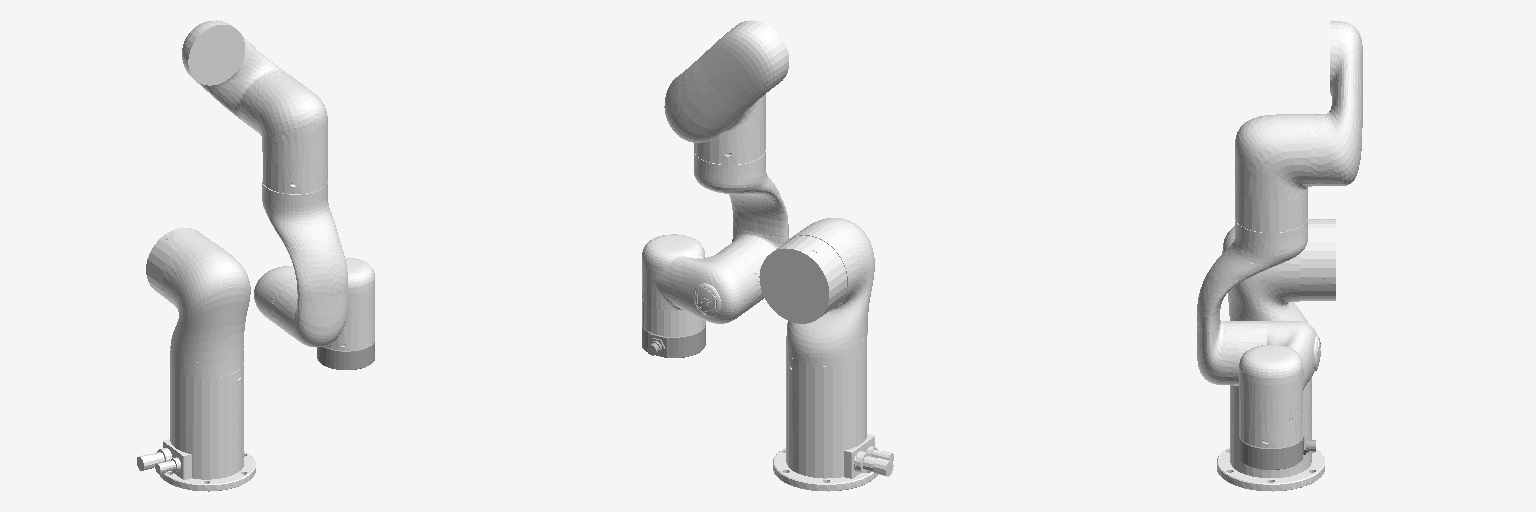
robot.urdf — xarm6:
<?xml version="1.0" encoding="utf-8"?>
<!-- =================================================================================== -->
<!-- |    This document was autogenerated by xacro from xarm6_robot.urdf.xacro         | -->
<!-- |    EDITING THIS FILE BY HAND IS NOT RECOMMENDED                                 | -->
<!-- =================================================================================== -->
<robot name="xarm6">
  <!--
  Author: Jason Peng <jason@ufactory.cc>
  Contributers:
-->
  <material name="Black">
    <color rgba="0.0 0.0 0.0 1.0"/>
  </material>
  <material name="Red">
    <color rgba="0.85 0.19  0.21 1.0"/>
  </material>
  <material name="Blue">
    <color rgba="0.28 0.52 0.92 1.0"/>
  </material>
  <material name="Green">
    <color rgba="0.23 0.72 0.32 1.0"/>
  </material>
  <material name="Yellow">
    <color rgba="0.95 0.76 0.05 1.0"/>
  </material>
  <material name="White">
    <color rgba="1.0 1.0 1.0 1.0"/>
  </material>
  <material name="Silver">
    <color rgba="0.753 0.753 0.753 1.0"/>
  </material>
  <link name="link_base">
    <visual>
      <geometry>
        <mesh filename="package://xarm_description/meshes/xarm6/visual/base.obj"/>
      </geometry>
      <origin rpy="0 0 0" xyz="0 0 0"/>
      <material name="White"/>
    </visual>
    <collision>
      <geometry>
        <mesh filename="package://xarm_description/meshes/xarm6/collision/base_vhacd.obj"/>
      </geometry>
      <origin rpy="0 0 0" xyz="0 0 0"/>
    </collision>
    <inertial>
      <origin rpy="0 0 0" xyz="0.0 0.0 0.09103"/>
      <mass value="2.7"/>
      <inertia ixx="0.00494875" ixy="-3.5E-06" ixz="1.25E-05" iyy="0.00494174" iyz="1.67E-06" izz="0.002219"/>
    </inertial>
  </link>
  <link name="link1">
    <visual>
      <geometry>
        <mesh filename="package://xarm_description/meshes/xarm6/visual/link1.obj"/>
      </geometry>
      <origin rpy="0 0 0" xyz="0 0 0"/>
      <material name="White"/>
    </visual>
    <collision>
      <geometry>
        <mesh filename="package://xarm_description/meshes/xarm6/collision/link1_vhacd.obj"/>
      </geometry>
      <origin rpy="0 0 0" xyz="0 0 0"/>
    </collision>
    <inertial>
      <origin rpy="0 0 0" xyz="-0.002 0.02692 -0.01332"/>
      <mass value="2.16"/>
      <inertia ixx="0.00539427" ixy="1.095E-05" ixz="1.635E-06" iyy="0.0048979" iyz="0.000793" izz="0.00311573"/>
    </inertial>
  </link>
  <joint name="joint1" type="revolute">
    <parent link="link_base"/>
    <child link="link1"/>
    <origin rpy="0 0 0" xyz="0 0 0.267"/>
    <axis xyz="0 0 1"/>
    <limit effort="50.0" lower="-6.28318530718" upper="6.28318530718" velocity="3.14"/>
    <dynamics damping="1.0" friction="1.0"/>
  </joint>
  <link name="link2">
    <visual>
      <geometry>
        <mesh filename="package://xarm_description/meshes/xarm6/visual/link2.obj"/>
      </geometry>
      <origin rpy="0 0 0" xyz="0 0 0"/>
      <material name="White"/>
    </visual>
    <collision>
      <geometry>
        <mesh filename="package://xarm_description/meshes/xarm6/collision/link2_vhacd.obj"/>
      </geometry>
      <origin rpy="0 0 0" xyz="0 0 0"/>
    </collision>
    <inertial>
      <origin rpy="0 0 0" xyz="0.03531 -0.21398 0.03386"/>
      <mass value="1.71"/>
      <inertia ixx="0.0248674" ixy="-0.00430651" ixz="-0.00067797" iyy="0.00485548" iyz="0.00457245" izz="0.02387827"/>
    </inertial>
  </link>
  <joint name="joint2" type="revolute">
    <parent link="link1"/>
    <child link="link2"/>
    <origin rpy="-1.5708 0 0" xyz="0 0 0"/>
    <axis xyz="0 0 1"/>
    <limit effort="50.0" lower="-2.059" upper="2.0944" velocity="3.14"/>
    <dynamics damping="1.0" friction="1.0"/>
  </joint>
  <link name="link3">
    <visual>
      <geometry>
        <mesh filename="package://xarm_description/meshes/xarm6/visual/link3.obj"/>
      </geometry>
      <origin rpy="0 0 0" xyz="0 0 0"/>
      <material name="White"/>
    </visual>
    <collision>
      <geometry>
        <mesh filename="package://xarm_description/meshes/xarm6/collision/link3_vhacd.obj"/>
      </geometry>
      <origin rpy="0 0 0" xyz="0 0 0"/>
    </collision>
    <inertial>
      <origin rpy="0 0 0" xyz="0.06781 0.10749 0.01457"/>
      <mass value="1.384"/>
      <inertia ixx="0.0053694" ixy="0.0014185" ixz="-0.00092094" iyy="0.0032423" iyz="-0.00169178" izz="0.00501731"/>
    </inertial>
  </link>
  <joint name="joint3" type="revolute">
    <parent link="link2"/>
    <child link="link3"/>
    <origin rpy="0 0 0" xyz="0.0535 -0.2845 0"/>
    <axis xyz="0 0 1"/>
    <limit effort="32.0" lower="-3.927" upper="0.19198" velocity="3.14"/>
    <dynamics damping="1.0" friction="1.0"/>
  </joint>
  <link name="link4">
    <visual>
      <geometry>
        <mesh filename="package://xarm_description/meshes/xarm6/visual/link4.obj"/>
      </geometry>
      <origin rpy="0 0 0" xyz="0 0 0"/>
      <material name="White"/>
    </visual>
    <collision>
      <geometry>
        <mesh filename="package://xarm_description/meshes/xarm6/collision/link4_vhacd.obj"/>
      </geometry>
      <origin rpy="0 0 0" xyz="0 0 0"/>
    </collision>
    <inertial>
      <origin rpy="0 0 0" xyz="-0.00021 0.02578 -0.02538"/>
      <mass value="1.115"/>
      <inertia ixx="0.00439263" ixy="5.028E-05" ixz="1.374E-05" iyy="0.0040077" iyz="0.00045338" izz="0.00110321"/>
    </inertial>
  </link>
  <joint name="joint4" type="revolute">
    <parent link="link3"/>
    <child link="link4"/>
    <origin rpy="-1.5708 0 0" xyz="0.0775 0.3425 0"/>
    <axis xyz="0 0 1"/>
    <limit effort="32.0" lower="-6.28318530718" upper="6.28318530718" velocity="3.14"/>
    <dynamics damping="1.0" friction="1.0"/>
  </joint>
  <link name="link5">
    <visual>
      <geometry>
        <mesh filename="package://xarm_description/meshes/xarm6/visual/link5.obj"/>
      </geometry>
      <origin rpy="0 0 0" xyz="0 0 0"/>
      <material name="White"/>
    </visual>
    <collision>
      <geometry>
        <mesh filename="package://xarm_description/meshes/xarm6/collision/link5_vhacd.obj"/>
      </geometry>
      <origin rpy="0 0 0" xyz="0 0 0"/>
    </collision>
    <inertial>
      <origin rpy="0 0 0" xyz="0.05428 0.01781 0.00543"/>
      <mass value="1.275"/>
      <inertia ixx="0.001202758" ixy="0.000492428" ixz="-0.00039147" iyy="0.0022876" iyz="-1.235E-04" izz="0.0026866"/>
    </inertial>
  </link>
  <joint name="joint5" type="revolute">
    <parent link="link4"/>
    <child link="link5"/>
    <origin rpy="1.5708 0 0" xyz="0 0 0"/>
    <axis xyz="0 0 1"/>
    <limit effort="32.0" lower="-1.69297" upper="3.14159265359" velocity="3.14"/>
    <dynamics damping="1.0" friction="1.0"/>
  </joint>
  <link name="link6">
    <visual>
      <geometry>
        <mesh filename="package://xarm_description/meshes/xarm6/visual/link6.obj"/>
      </geometry>
      <origin rpy="0 0 0" xyz="0 0 0"/>
      <material name="Silver"/>
    </visual>
    <collision>
      <geometry>
        <mesh filename="package://xarm_description/meshes/xarm6/collision/link6_vhacd.obj"/>
      </geometry>
      <origin rpy="0 0 0" xyz="0 0 0"/>
    </collision>
    <inertial>
      <origin rpy="0 0 0" xyz="0 0.00064 -0.00952"/>
      <mass value="0.1096"/>
      <inertia ixx="4.5293E-05" ixy="0" ixz="0" iyy="4.8111E-05" iyz="0" izz="7.9715E-05"/>
    </inertial>
  </link>
  <joint name="joint6" type="revolute">
    <parent link="link5"/>
    <child link="link6"/>
    <origin rpy="-1.5708 0 0" xyz="0.076 0.097 0"/>
    <axis xyz="0 0 1"/>
    <limit effort="20.0" lower="-6.28318530718" upper="6.28318530718" velocity="3.14"/>
    <dynamics damping="1.0" friction="1.0"/>
  </joint>
  <link name="link_eef" >
    <inertial>
      <origin rpy="0 0 0" xyz="0 0 0"/>
        <mass value="0.0"/>
        <inertia ixx="0.1" ixy="0" ixz="0" iyy="0.1" iyz="0" izz="0.1"/>
    </inertial>
  </link>
  <joint name="joint_eef" type="fixed">
      <origin xyz="0 0 0" rpy="0 0 0" />
      <parent link="link6" />
      <child link="link_eef" />
  </joint>
  <link name="xarm_grasptarget_vis">
    <inertial>
      <origin rpy="0 0 0" xyz="0 0 0"/>
       <mass value="0.0"/>
       <inertia ixx="0.1" ixy="0" ixz="0" iyy="0.1" iyz="0" izz="0.1"/>
    </inertial>
   </link>
   <joint name="xarm_grasptarget_hand" type="fixed">
    <parent link="link_eef"/>
    <child link="xarm_grasptarget_vis"/>
    <origin rpy="0 0 0" xyz="0 -0.08 0.105"/>
  </joint>
</robot>

--- Render facts (derived) ---
The picture shows the robot from 3 angles, left to right: view 1: azimuth 30°, elevation 25°; view 2: azimuth 150°, elevation 25°; view 3: azimuth 270°, elevation 25°; orthographic projection.
Model xarm6 with 9 links and 8 joints (6 revolute, 2 fixed), rooted at link_base, posed every joint at zero.
Visible links, largest first — view 1: link3, link1, link_base, link4, link5, link6; view 2: link1, link3, link_base, link5, link4, link6; view 3: link3, link5, link4, link1, link_base, link6.
Link boxes in pixels (bbox=[...]): link3: bbox=[182, 20, 327, 193]; link1: bbox=[146, 228, 250, 377]; link_base: bbox=[137, 364, 255, 491]; link4: bbox=[262, 179, 347, 347]; link5: bbox=[254, 258, 374, 350]; link6: bbox=[317, 341, 374, 369]; link1: bbox=[759, 218, 874, 365]; link3: bbox=[664, 20, 788, 164]; link_base: bbox=[773, 351, 893, 491]; link5: bbox=[642, 234, 758, 336]; link4: bbox=[694, 150, 788, 304]; link6: bbox=[642, 324, 705, 357]; link3: bbox=[1235, 21, 1362, 232]; link5: bbox=[1239, 321, 1320, 447]; link4: bbox=[1197, 219, 1307, 385]; link1: bbox=[1222, 219, 1335, 323]; link_base: bbox=[1217, 377, 1324, 491]; link6: bbox=[1239, 436, 1315, 469].
Size in the robot's own frame: 0.3368 by 0.1931 by 0.5938 metres.
Meshes: 7 distinct files referenced, 6 mesh visuals loaded (6 OBJ); not drawn: 1 (reference not matched to a file when rendering).
